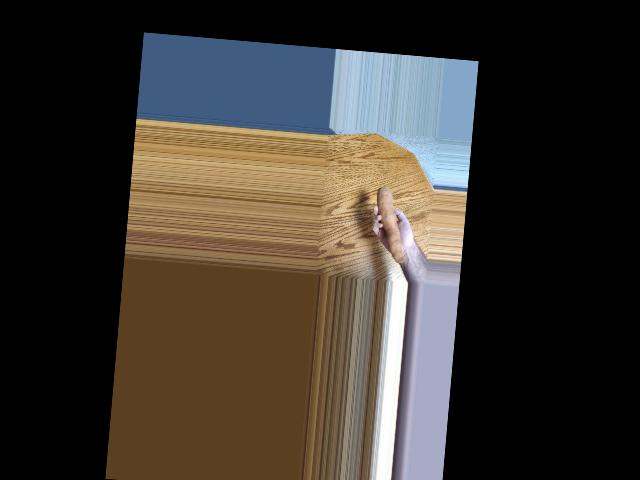sweet_potato: (368, 174, 406, 254)
